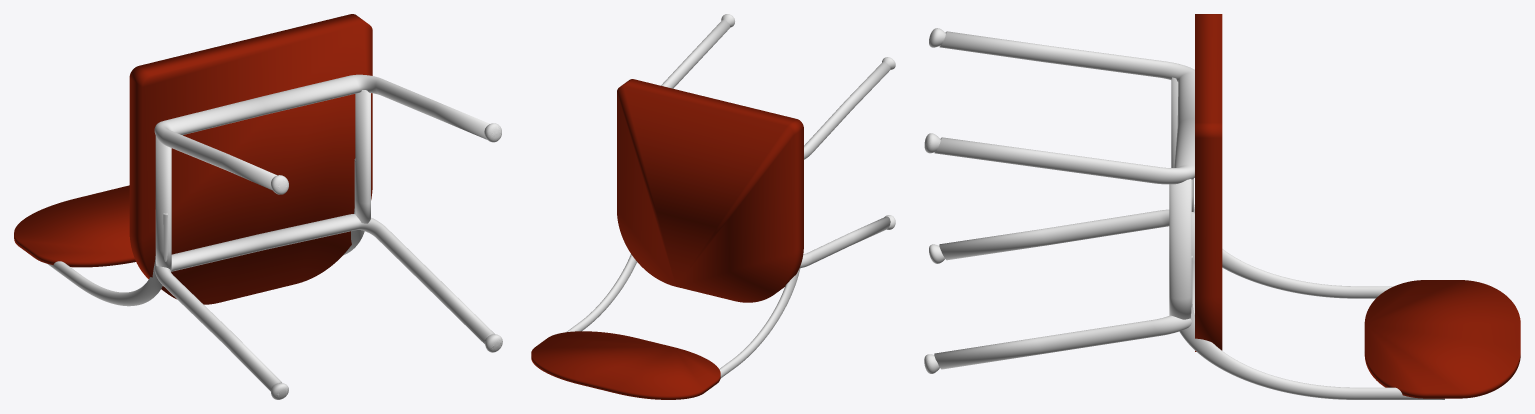
File: School Chair.fbx
3 views of the same model, side by side, from view 1: azimuth 30°, elevation 25°; view 2: azimuth 150°, elevation 25°; view 3: azimuth 270°, elevation 25° (orthographic). The views are drawn at different scales.
Parts seen in each view (by area): view 1: School Chair; view 2: School Chair; view 3: School Chair.
Boxes of the visible parts, <box> form: School Chair: <box>14,14,502,399</box>; School Chair: <box>531,14,895,399</box>; School Chair: <box>924,14,1520,399</box>.
Size of the model in its own units: 538 by 592 by 1139.
